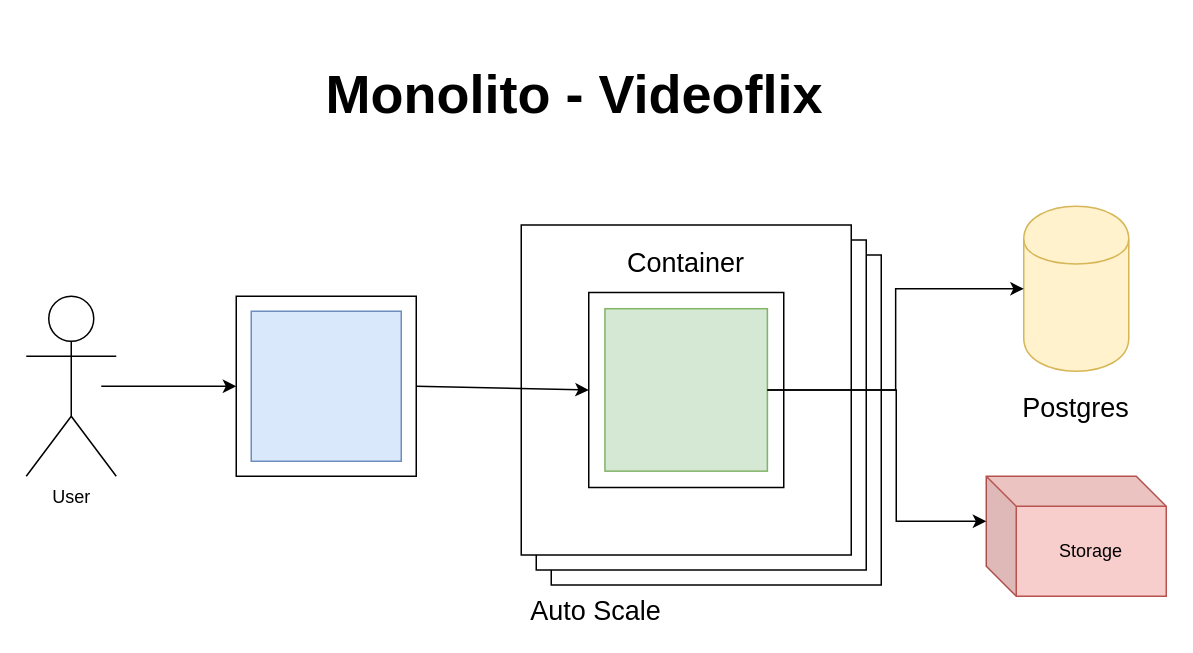
Image size: 1193x653. Some labels were removed from this diagram. Here are the shapes that lost their labels. From the top down, the box of each, then its label:
(250, 310, 401, 461): LOAD BALANCE
(603, 307, 767, 471): CORE
